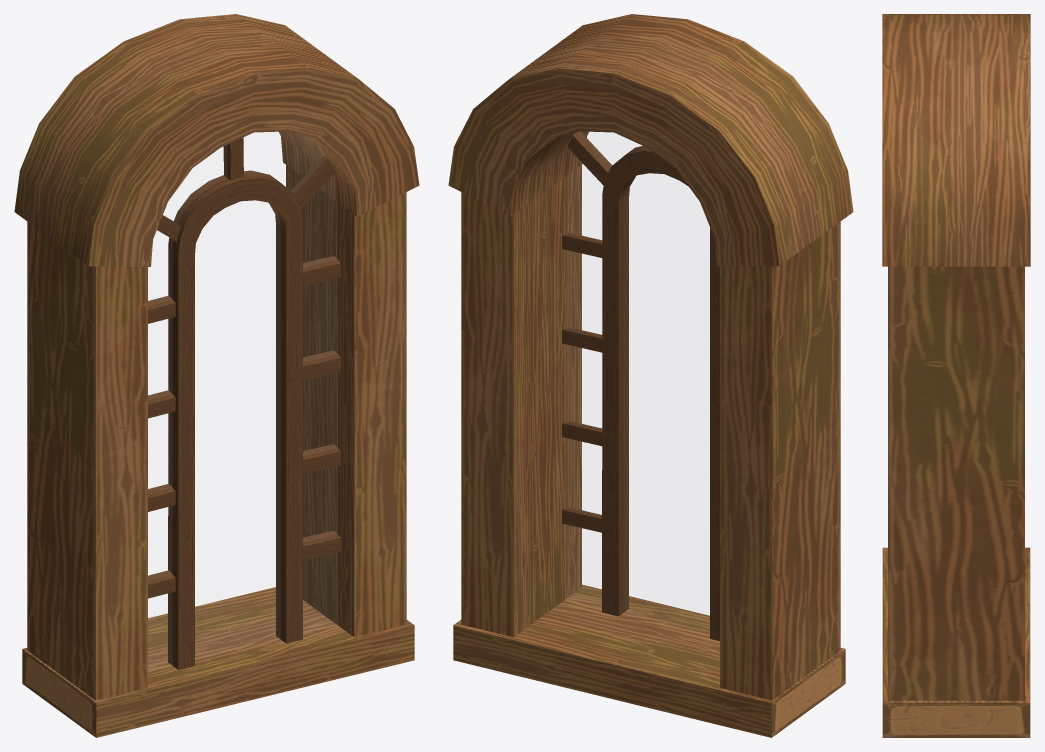
File: Window_Thin_Round1.glb
3 views of the same model, side by side, from view 1: azimuth 30°, elevation 25°; view 2: azimuth 150°, elevation 25°; view 3: azimuth 270°, elevation 25° (orthographic).
Parts seen in each view (by area): view 1: Window_Thin_Round1; view 2: Window_Thin_Round1; view 3: Window_Thin_Round1.
Boxes of the visible parts, x1,y1,x2,y2 form: Window_Thin_Round1: [14, 14, 419, 737]; Window_Thin_Round1: [448, 14, 853, 737]; Window_Thin_Round1: [882, 14, 1030, 737].
Bounding box in the file's own units: 0.8877 × 1.6 × 0.3444.
2 materials, 1 textured.
